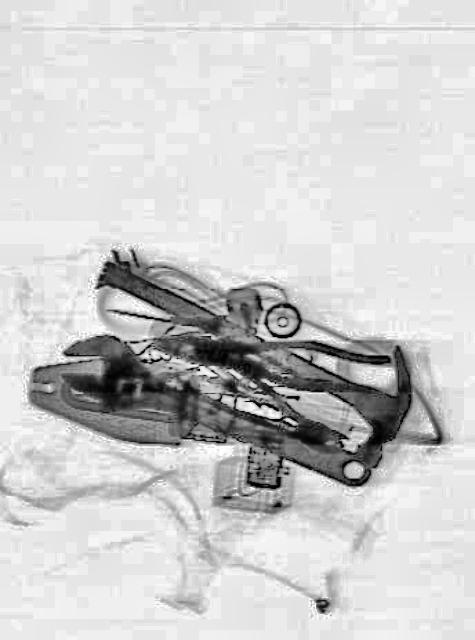Pliers: (147, 313, 391, 403)
Wrench: (49, 314, 378, 518)
